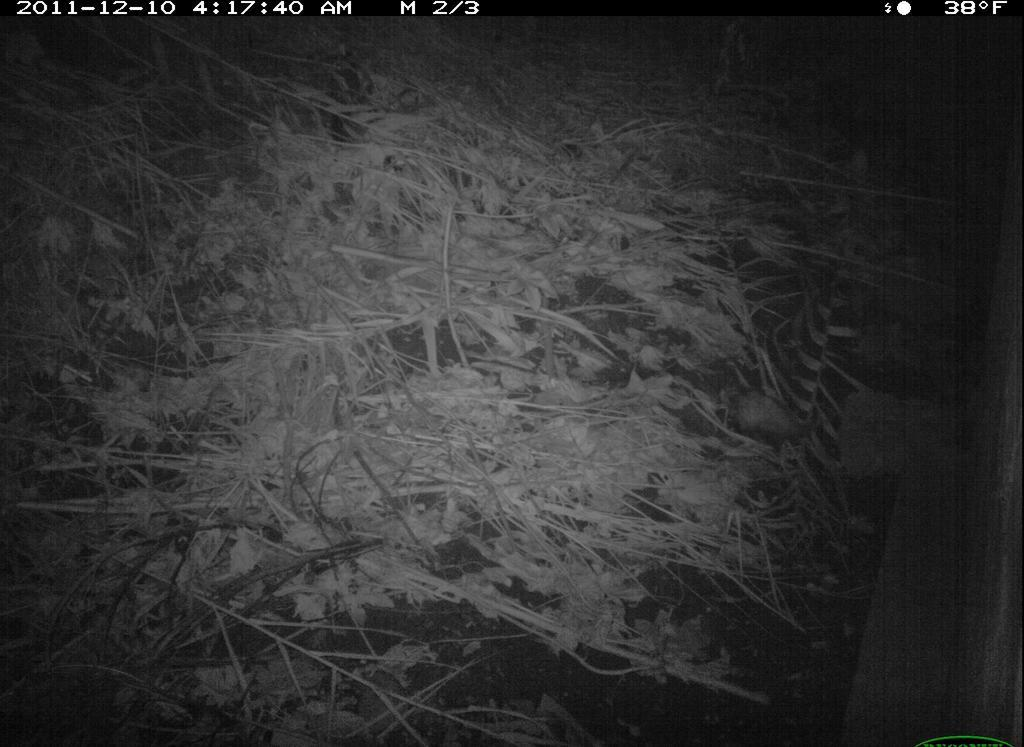opossum: (720, 376, 813, 447)
